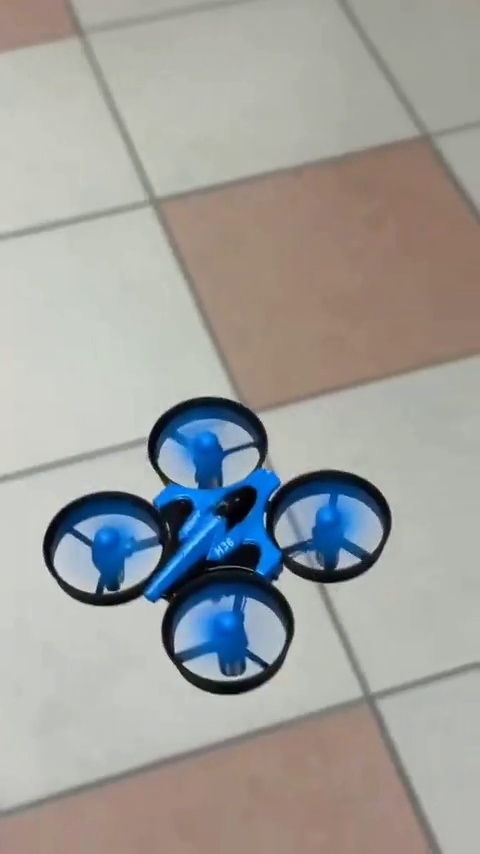drone: (41, 399, 391, 704)
